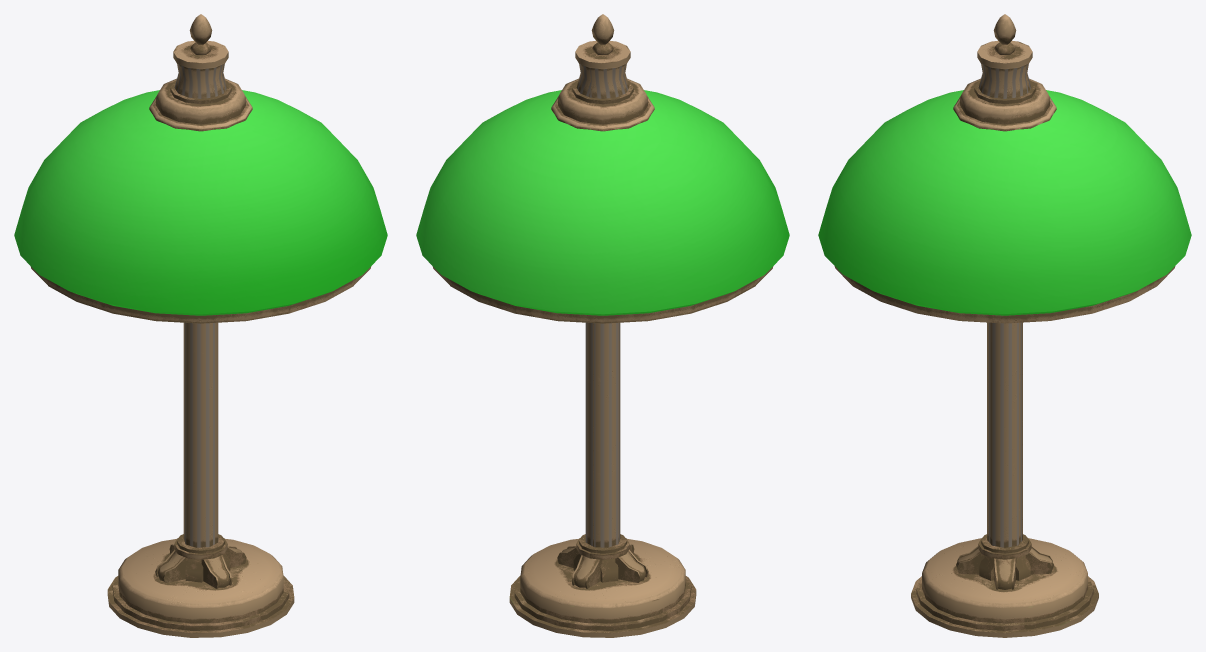
3 renders of one model, left to right at view 1: azimuth 30°, elevation 25°; view 2: azimuth 150°, elevation 25°; view 3: azimuth 270°, elevation 25°, orthographic.
Parts seen in each view (by area): view 1: SM_OldTableLamp_V03_0; view 2: SM_OldTableLamp_V03_0; view 3: SM_OldTableLamp_V03_0.
Part boxes in pixels (x1,y1,x2,y2): SM_OldTableLamp_V03_0: (14, 14, 387, 637); SM_OldTableLamp_V03_0: (416, 14, 789, 637); SM_OldTableLamp_V03_0: (818, 14, 1191, 637).
Size of the model in its own units: 0.2779 by 0.4797 by 0.2779.
1 material, 1 textured.
